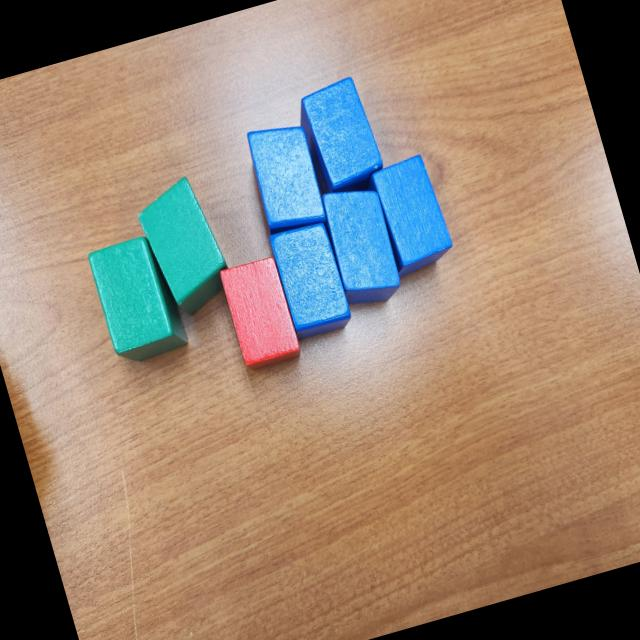blue: (286, 70, 390, 202), (314, 178, 408, 312), (367, 152, 459, 280), (239, 117, 332, 239), (265, 218, 356, 342)
green: (128, 170, 238, 324), (84, 231, 190, 369)
red: (213, 250, 306, 374)
